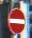No entry: (6, 6, 27, 33)
